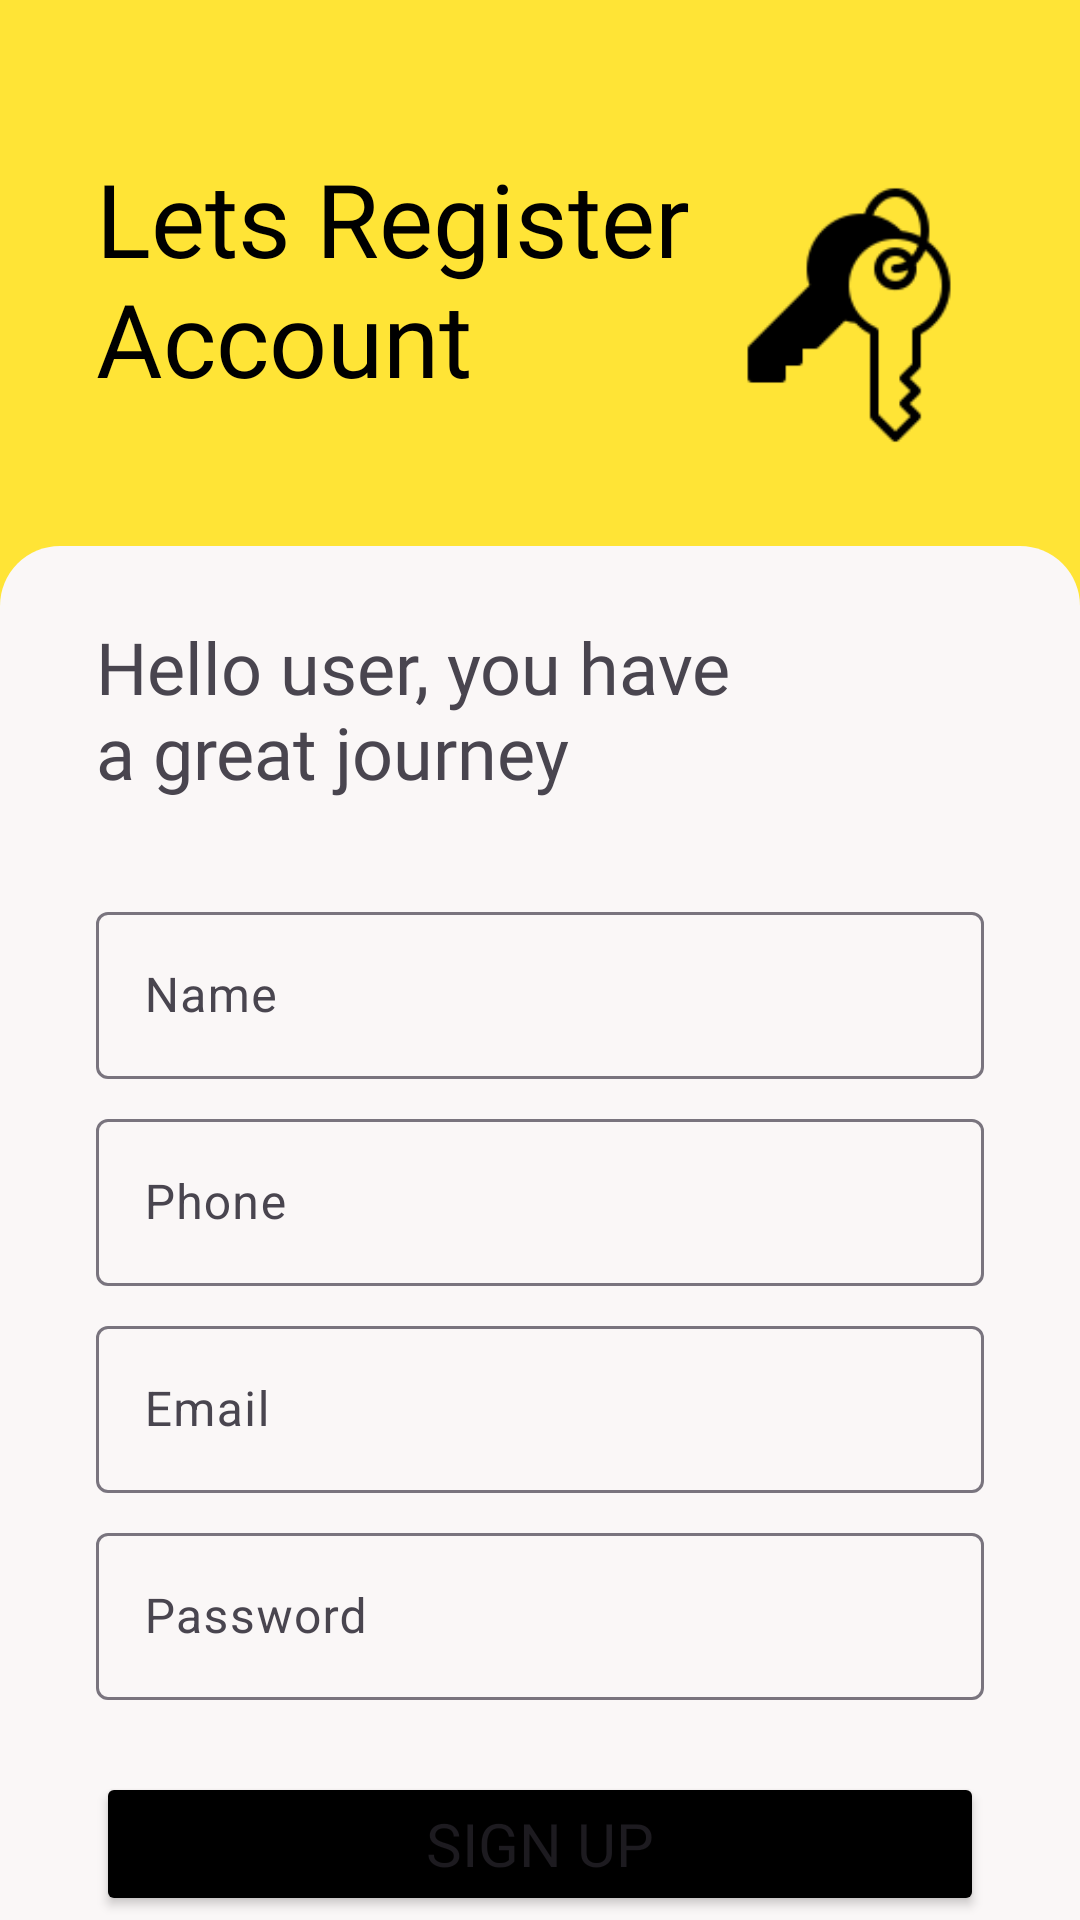

Locate icon controls on the screen. Image size 1080px x 1920px, boxes as [x1, y1, x2, y2].
door key: [747, 188, 951, 442]
